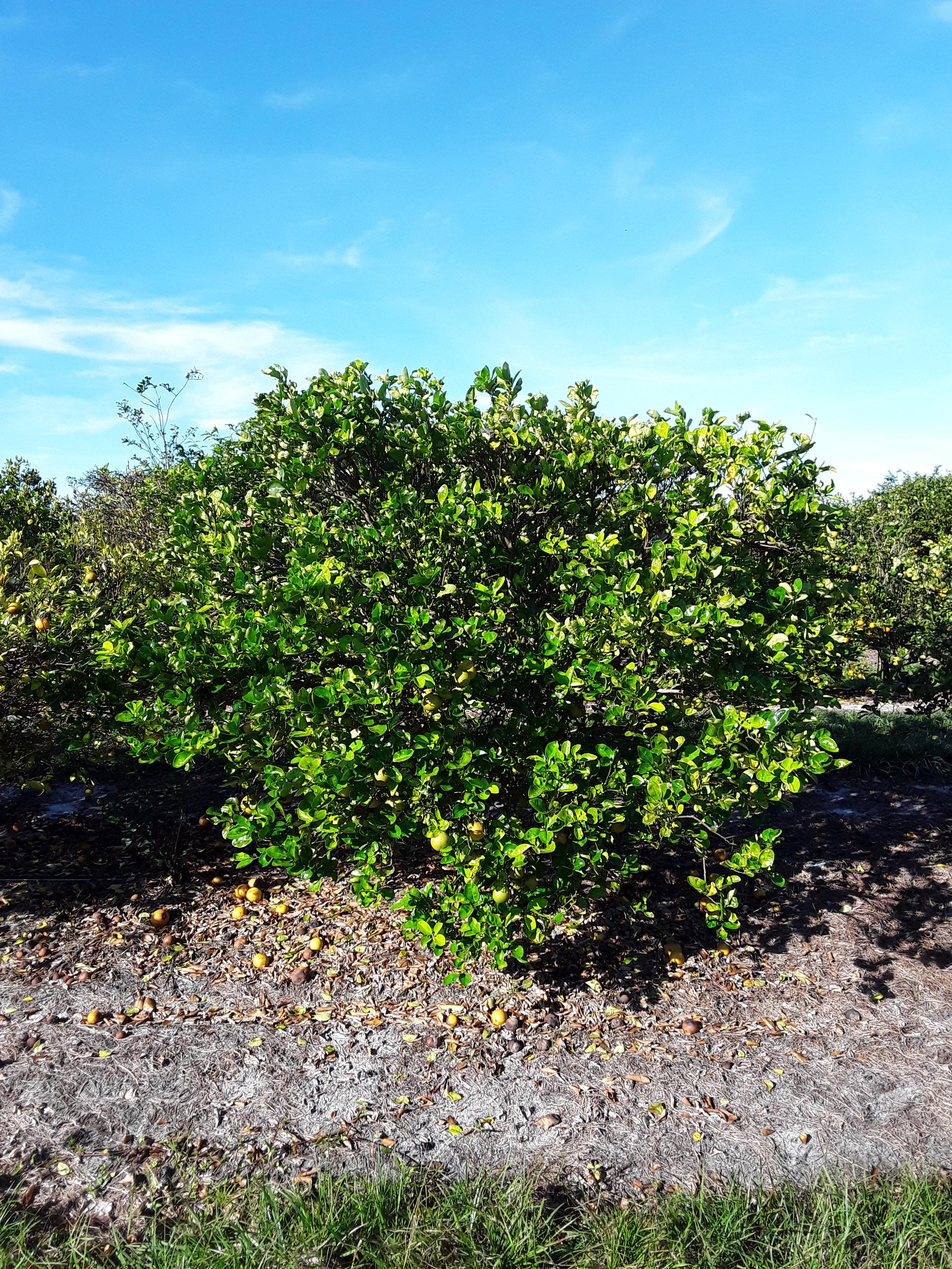fruit_on_ground: (418, 689, 444, 713), (239, 793, 263, 817), (428, 829, 453, 852), (370, 765, 393, 788), (605, 813, 629, 835), (463, 820, 486, 842), (457, 658, 478, 682), (383, 795, 406, 816), (247, 752, 270, 773), (264, 727, 286, 747), (450, 668, 472, 688), (550, 827, 571, 847), (490, 885, 511, 905), (567, 700, 587, 720), (519, 874, 540, 893), (334, 780, 355, 799), (461, 868, 481, 887), (507, 863, 526, 881), (363, 792, 383, 809), (37, 713, 55, 731), (32, 615, 51, 632), (80, 567, 97, 584), (4, 600, 22, 616), (882, 625, 891, 634), (856, 619, 865, 627), (868, 621, 877, 629)
fruit_on_tree: (149, 907, 170, 927), (696, 895, 716, 915), (680, 1016, 701, 1035), (250, 951, 271, 970), (289, 966, 311, 984), (663, 940, 683, 959), (489, 1009, 509, 1027), (84, 1009, 103, 1027), (711, 845, 730, 862), (246, 886, 263, 903), (308, 933, 325, 950), (668, 949, 685, 966), (272, 902, 290, 918), (233, 884, 250, 900), (230, 904, 247, 920), (707, 870, 724, 885), (716, 940, 731, 956), (195, 814, 211, 829), (159, 931, 175, 946), (299, 946, 314, 961), (444, 1014, 460, 1028), (77, 968, 91, 982), (208, 873, 223, 886), (112, 1028, 126, 1041), (10, 822, 22, 833), (37, 947, 48, 957)
